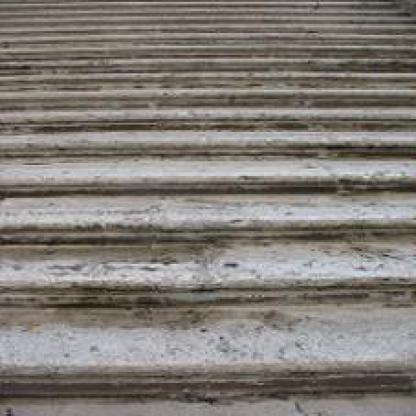stair_up: (14, 112, 380, 319)
